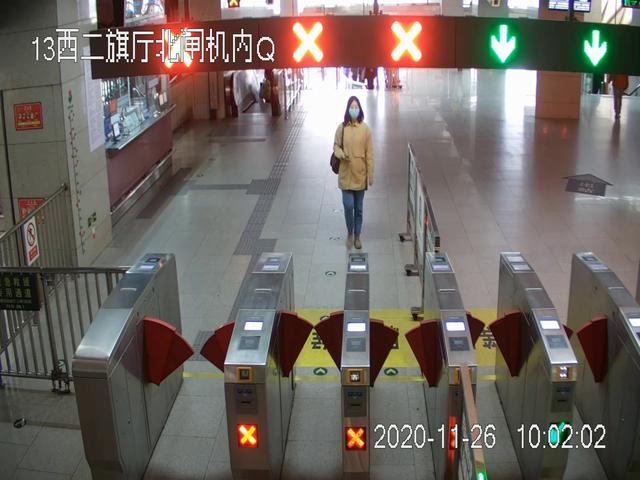person: (331, 96, 375, 250)
